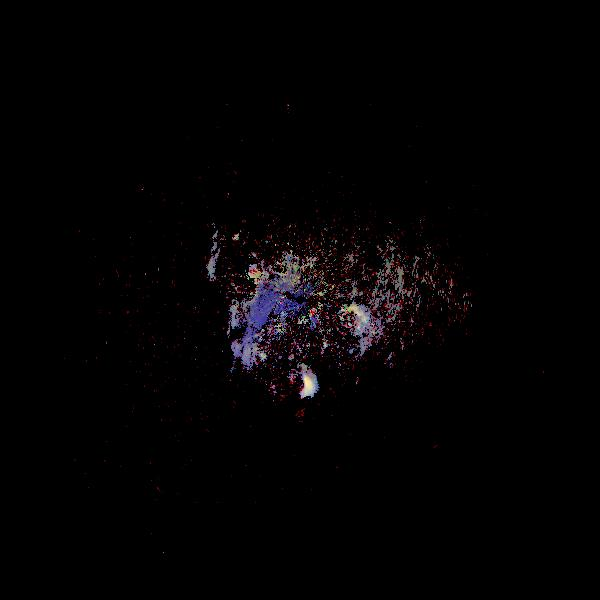roost: (279, 359, 327, 407), (335, 297, 374, 336)
